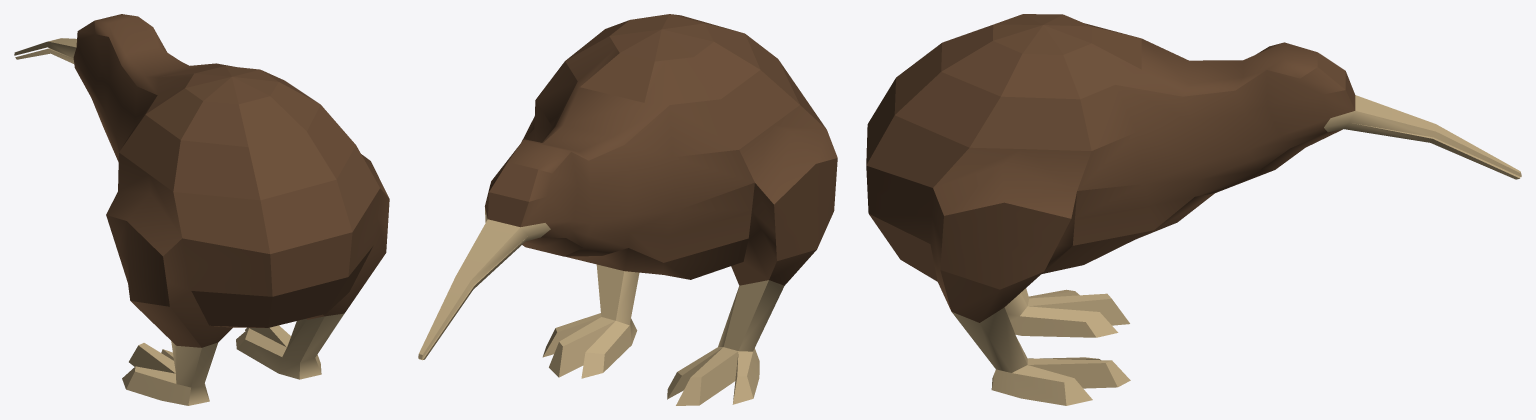
Rendered from kiwi_V1.fbx.
3 views of the same model, side by side, from view 1: azimuth 30°, elevation 25°; view 2: azimuth 150°, elevation 25°; view 3: azimuth 270°, elevation 25° (orthographic). The views are drawn at different scales.
Visible parts, largest first — view 1: pSphere1; view 2: pSphere1; view 3: pSphere1.
Boxes of the visible parts, bbox=[...] form: pSphere1: bbox=[14, 14, 389, 405]; pSphere1: bbox=[418, 14, 837, 405]; pSphere1: bbox=[866, 14, 1521, 405].
Size of the model in its own units: 2.28 by 2.67 by 4.8.
